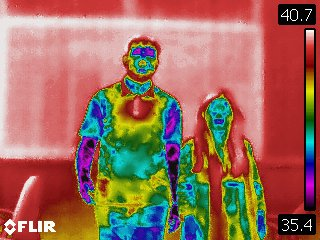human: (73, 35, 180, 240), (181, 87, 270, 240)
